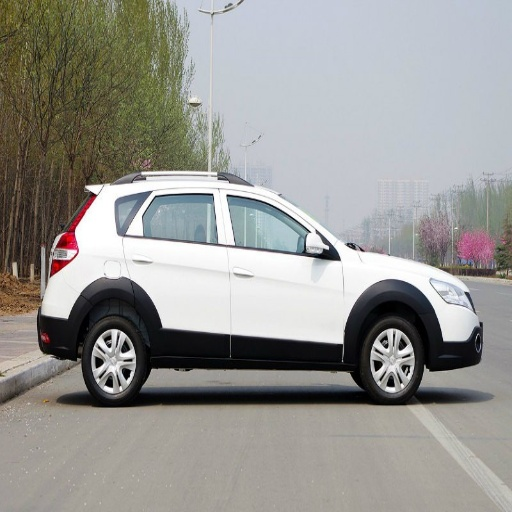back_right_door: (118, 182, 230, 354)
front_right_door: (222, 185, 344, 357)
